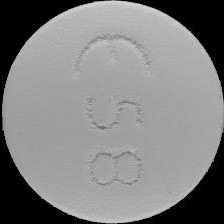54868-6326: (0, 0, 224, 224)
